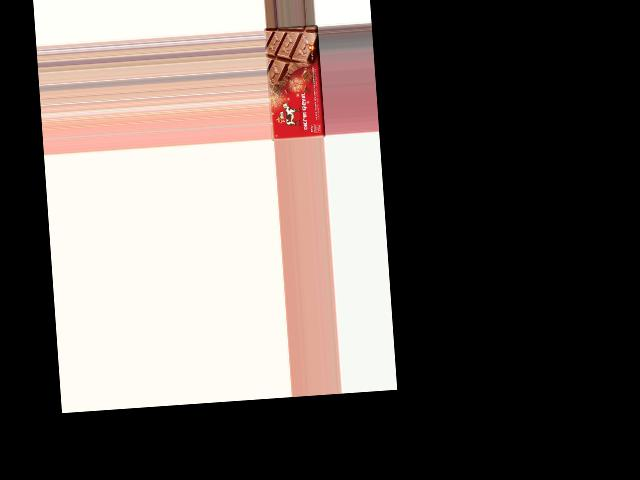chocolate: (264, 25, 325, 141)
